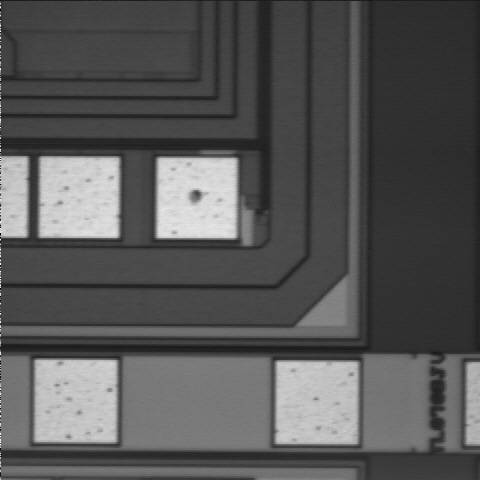pad: (35, 360, 117, 442), (276, 362, 358, 444), (157, 158, 237, 238), (40, 157, 119, 238)
